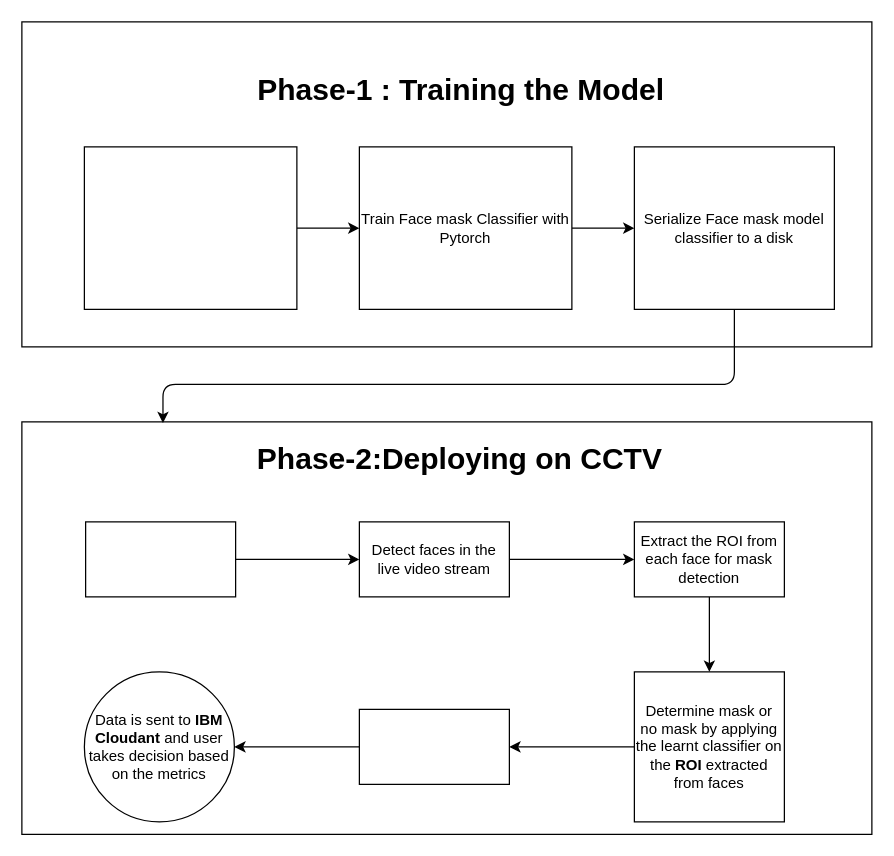
Image size: 894x856. Some labels were removed from this diagram. Here are the shapes that lost their labels. From the top down, the centre of each, then its label:
(x=190, y=227): Load Face Mask Dataset
(x=160, y=559): Load the model on to the CCTV camera
(x=433, y=746): Calculate Total number of Persons and Safety Score
